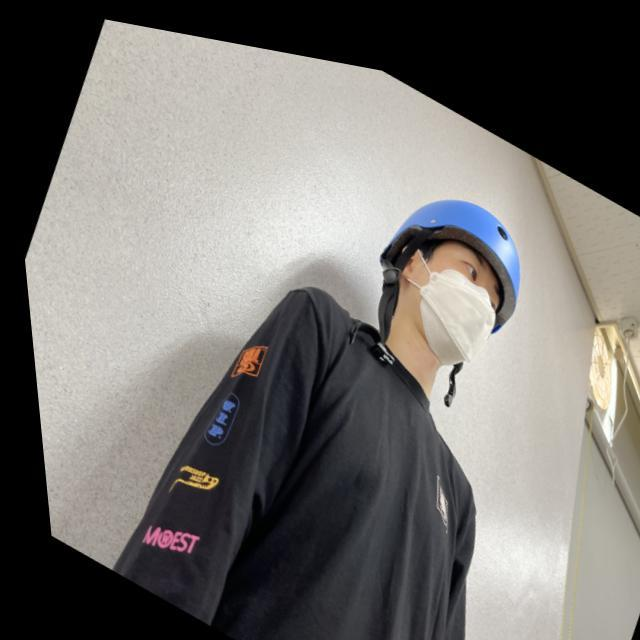Helmet: (363, 179, 544, 389)
